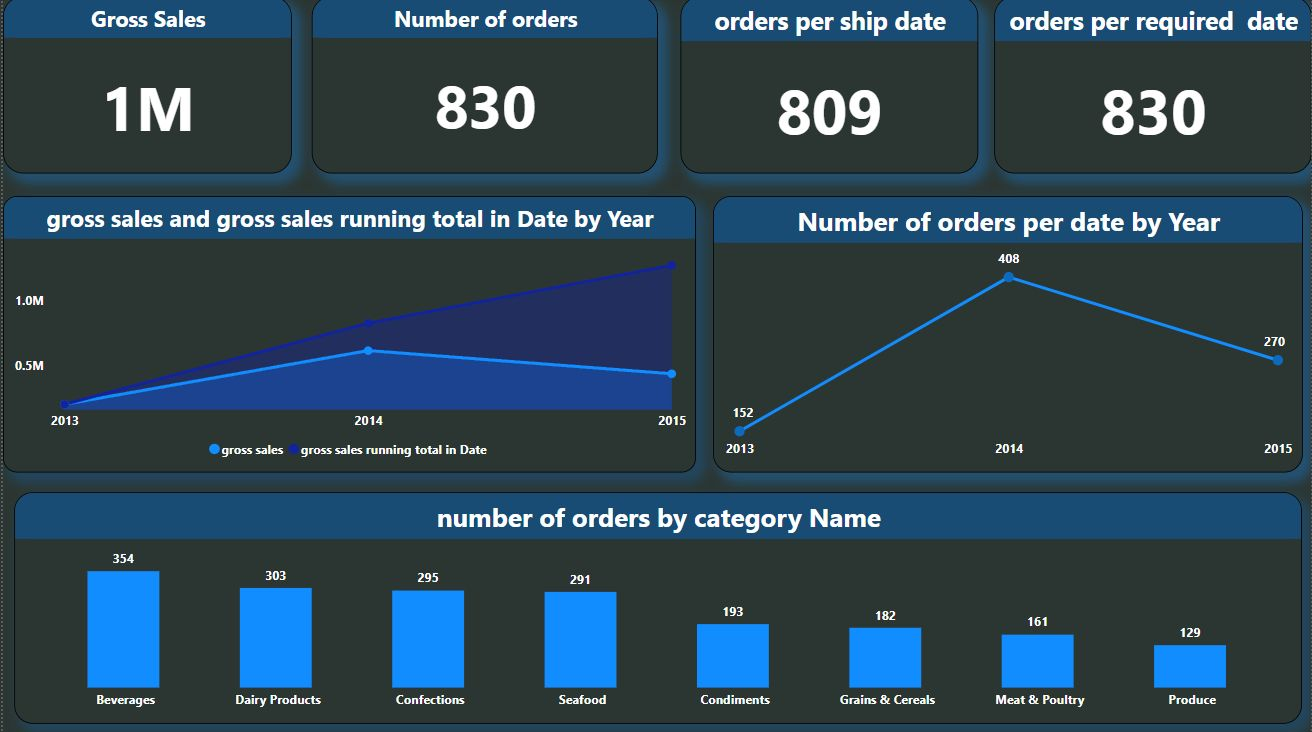

What the dashboard file says about the page in this screenshot:
{"tool":"powerbi","page":{"name":"Page 1","canvas":[1280,720],"ordinal":0},"visuals":[{"type":"cardVisual","title":"Number of orders","fields":{"Data":["DAX MEASURES.number of orders"]},"box":[301.9,0,338.6,173.6],"z":0},{"type":"lineChart","fields":{"Y":["DAX MEASURES.Number of orders per date"],"Category":["Dates.Date.Variation.Date Hierarchy.Year","Dates.Date.Variation.Date Hierarchy.Month","Dates.Date.Variation.Date Hierarchy.Day"]},"box":[694.3,195.6,577,270.2],"z":1000},{"type":"clusteredColumnChart","title":"number of orders by category Name","fields":{"Category":["products.categoryName"],"Y":["DAX MEASURES.number of orders"]},"box":[11,485.3,1259.1,226.1],"z":2000},{"type":"cardVisual","title":"Gross Sales","fields":{"Data":["DAX MEASURES.gross sales"]},"box":[0,0,282.4,173.6],"z":3000},{"type":"cardVisual","title":" orders per ship date","fields":{"Data":["DAX MEASURES.Number of orders per shipdate"]},"box":[662.5,0,290.9,173.6],"z":4000},{"type":"cardVisual","title":" orders per required  date","fields":{"Data":["DAX MEASURES.ordrs per required date"]},"box":[969.4,0,310.5,173.6],"z":5000},{"type":"areaChart","fields":{"Y":["DAX MEASURES.gross sales","DAX MEASURES.gross sales running total in Date"],"Category":["Dates.Date.Variation.Date Hierarchy.Year","Dates.Date.Variation.Date Hierarchy.Quarter","Dates.Date.Variation.Date Hierarchy.Month","Dates.Date.Variation.Date Hierarchy.Day"]},"box":[0,195.6,677.2,270.2],"z":6000}]}

Visuals, with their boxes in screenshot pixels (x1, y1, x2, y2), scaled from the page's 1280x720 canvas onto the 1312x732 screenshot:
"Number of orders" cardVisual: <bbox>309, 0, 657, 176</bbox>
lineChart - DAX MEASURES.Number of orders per date x Dates.Date.Variation.Date Hierarchy.Year: <bbox>712, 199, 1303, 474</bbox>
"number of orders by category Name" clusteredColumnChart: <bbox>11, 493, 1302, 723</bbox>
"Gross Sales" cardVisual: <bbox>0, 0, 289, 176</bbox>
" orders per ship date" cardVisual: <bbox>679, 0, 977, 176</bbox>
" orders per required  date" cardVisual: <bbox>994, 0, 1311, 176</bbox>
areaChart - DAX MEASURES.gross sales x DAX MEASURES.gross sales running total in Date: <bbox>0, 199, 694, 474</bbox>
